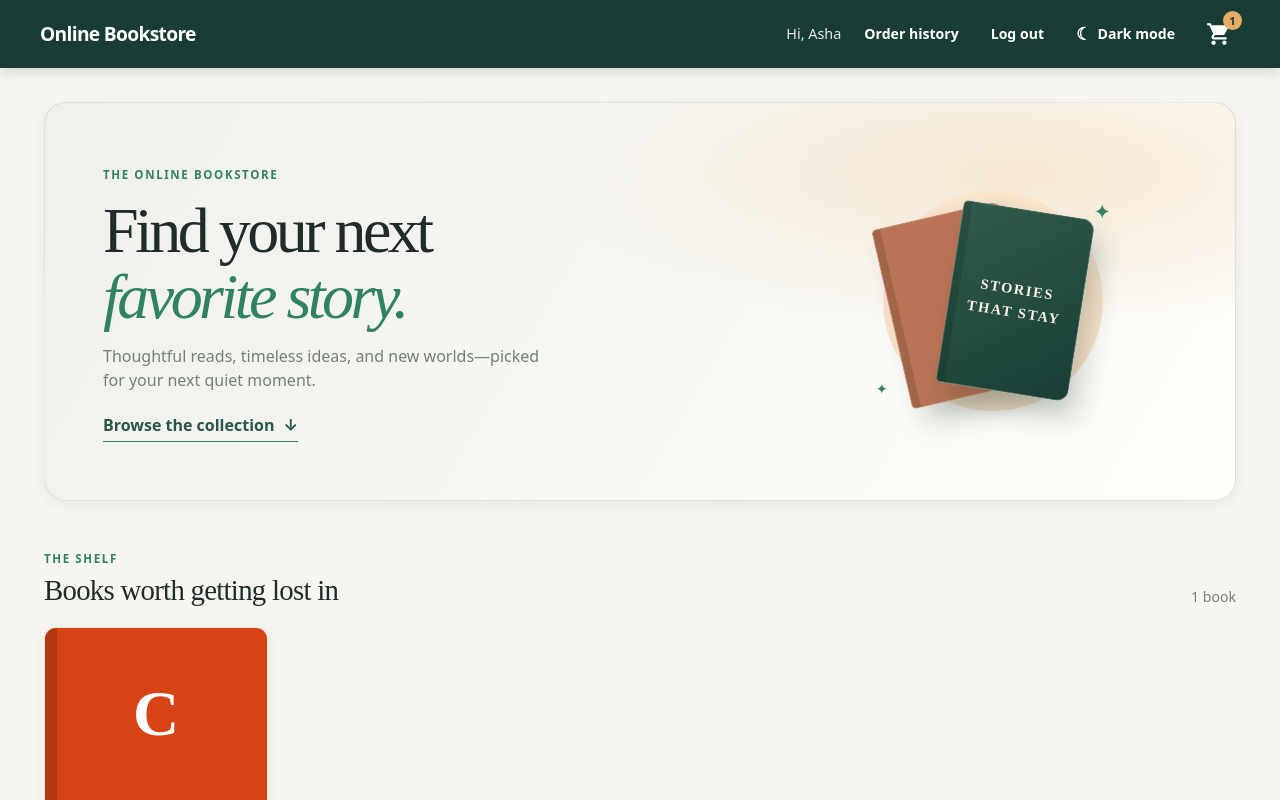
Test case: App (logged in) › submits cash on delivery and shows that payment is due on delivery
What coordinates should you click on to do the following:
click the button named "Open cart (1)"
I would click on:
 (1219, 34)
Its box is [1198,13,1240,55].
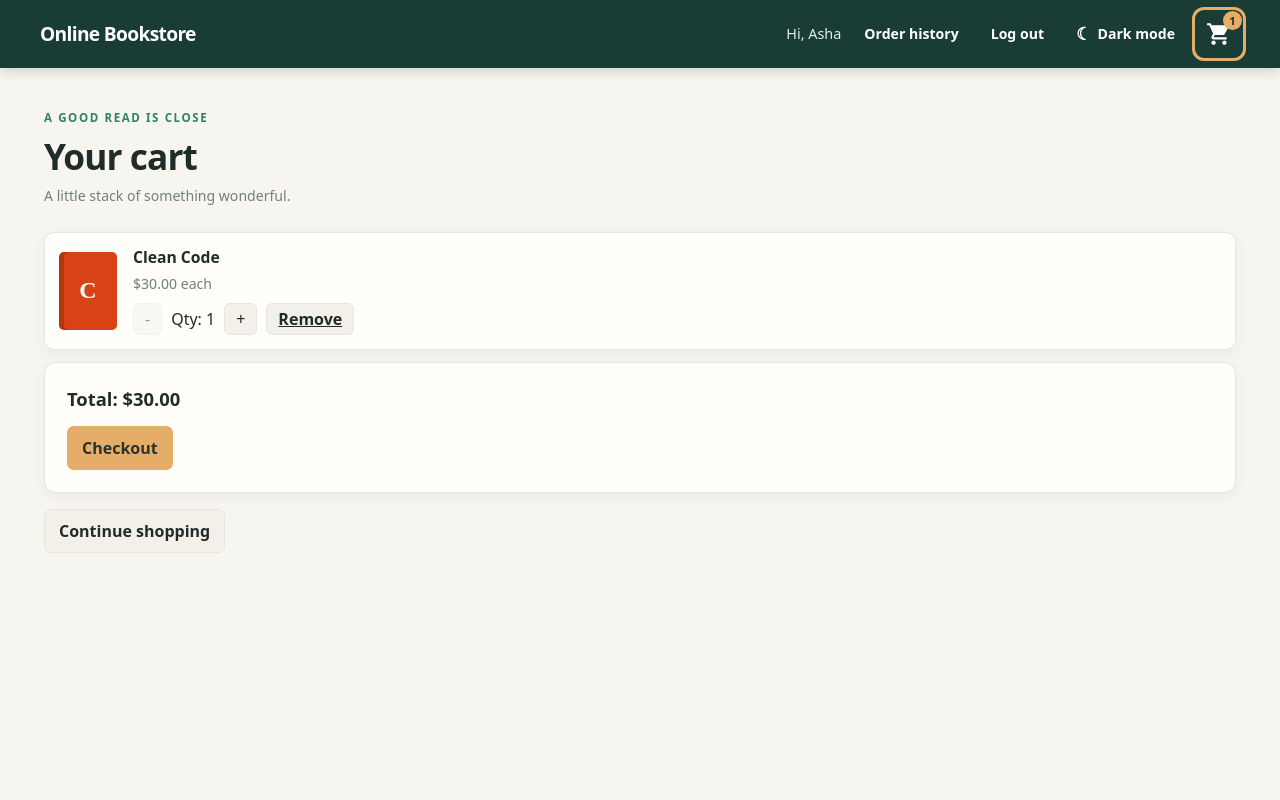
What coordinates should you click on to do the following:
click the button "Checkout"
I would click on:
 (120, 448)
Its box is [67,426,173,470].
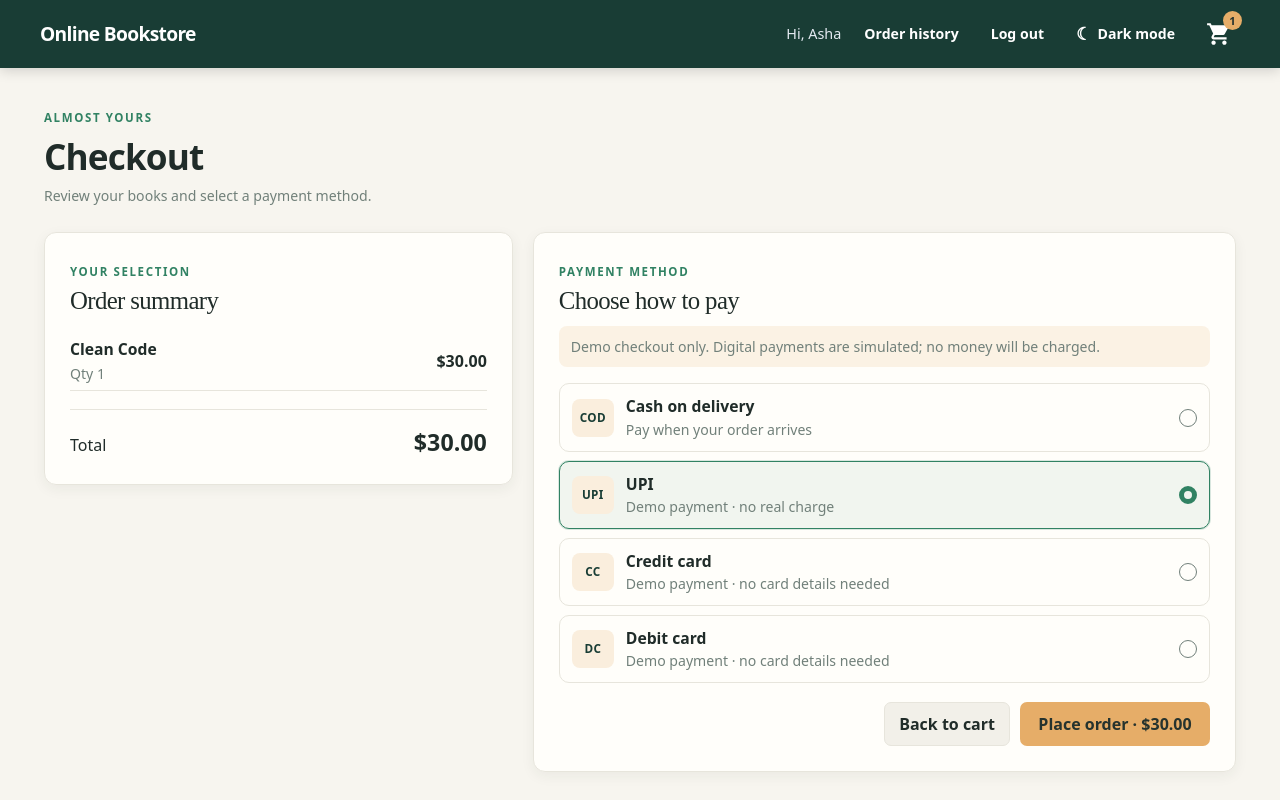
What coordinates should you click on to do the following:
click the radio button labelled "COD Cash on delivery Pay when your order arrives"
I would click on:
 (593, 418)
Its box is [559,384,1210,452].
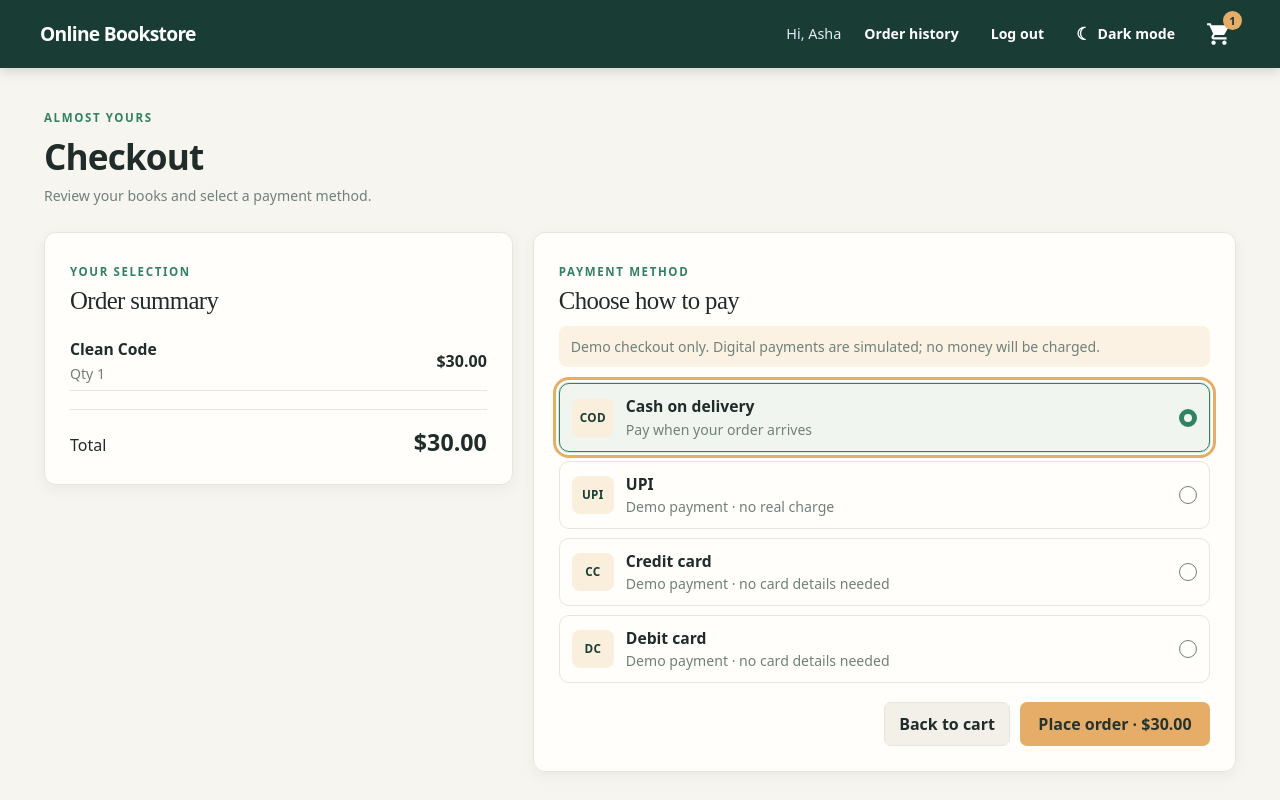
What coordinates should you click on to do the following:
click the button "Place order · $30.00"
I would click on:
 (1115, 724)
Its box is [1020,702,1210,746].
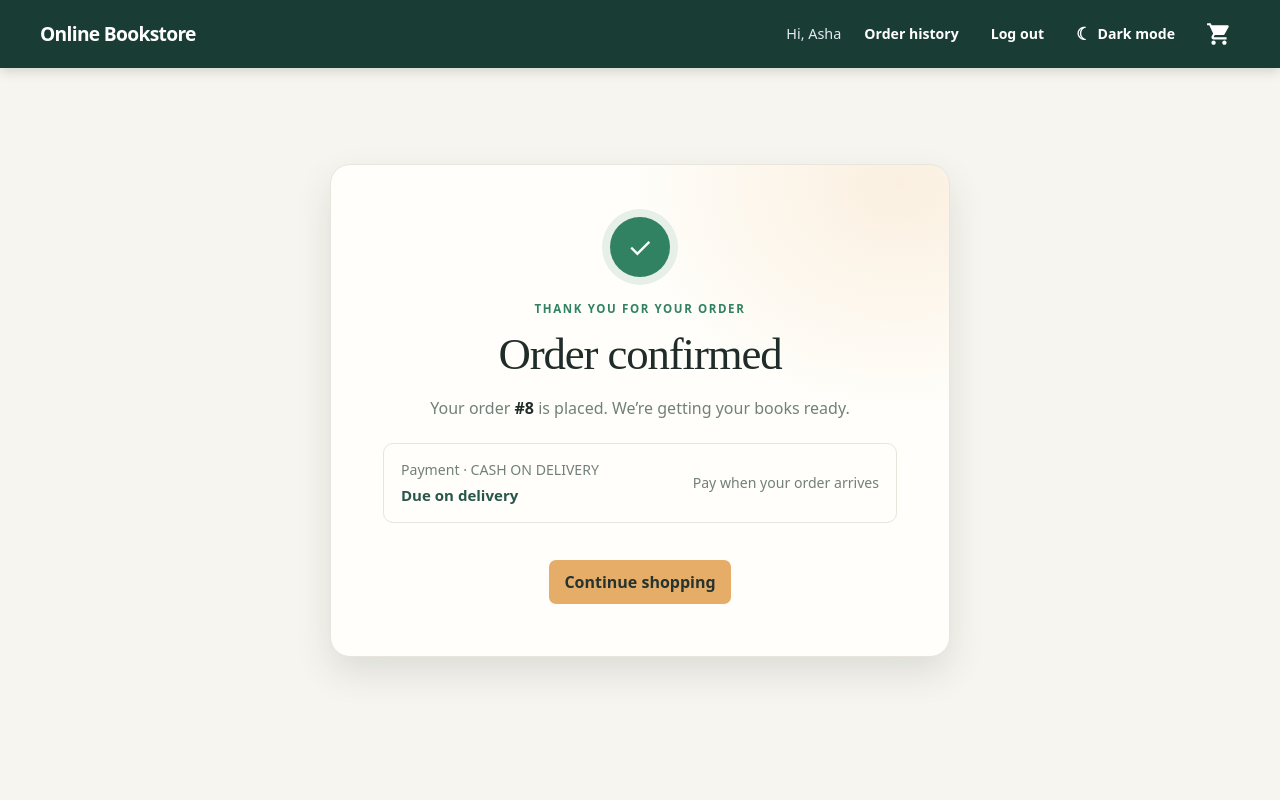
Expected: the text "Due on delivery" is shown, [401,485,518,505]
